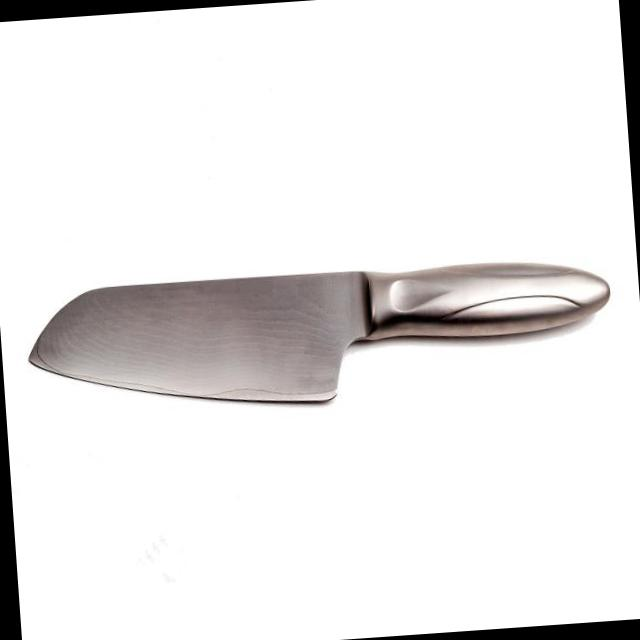Knife: (29, 262, 608, 400)
